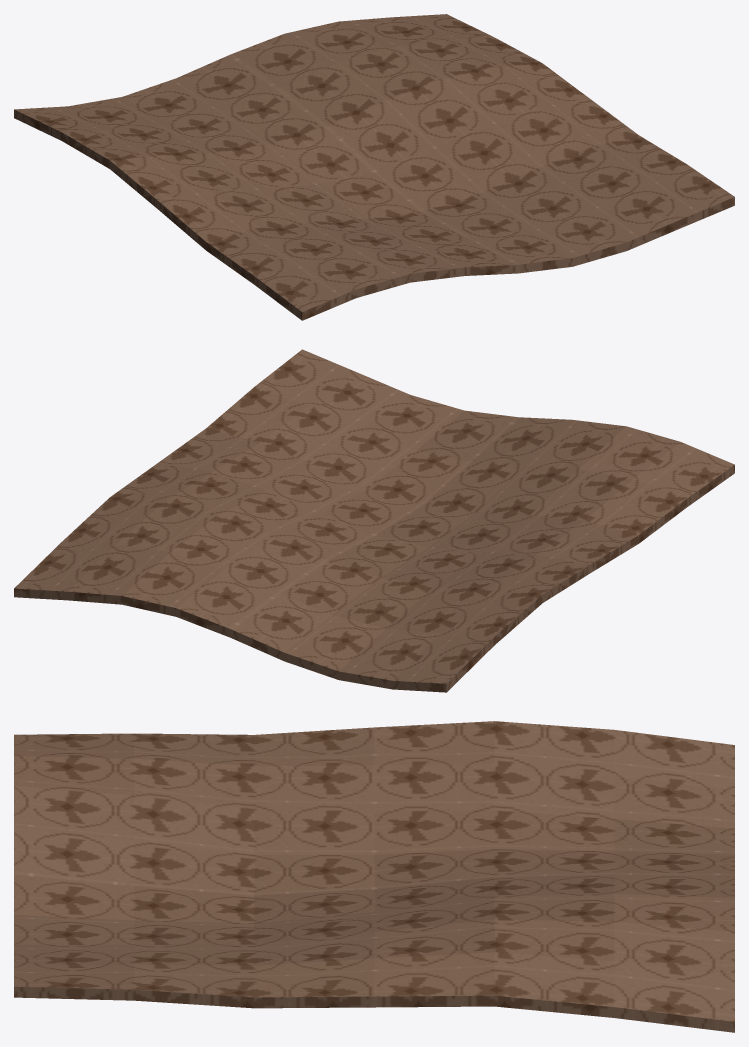
File: MD_75_Quilt.fbx
The picture shows the model from 3 angles, top to bottom: view 1: azimuth 30°, elevation 25°; view 2: azimuth 150°, elevation 25°; view 3: azimuth 270°, elevation 25°; orthographic projection. The views are drawn at different scales.
Visible parts, largest first — view 1: MD_75_Quilt_stitched_quilt; view 2: MD_75_Quilt_stitched_quilt; view 3: MD_75_Quilt_stitched_quilt.
Part boxes in pixels (box(x1,y1,x2,y2)): MD_75_Quilt_stitched_quilt: box(14, 14, 734, 320); MD_75_Quilt_stitched_quilt: box(14, 349, 734, 692); MD_75_Quilt_stitched_quilt: box(14, 721, 734, 1032).
Bounding box in the file's own units: 1.3 × 0.1237 × 1.5.
Materials: 1 (1 with a texture image).
